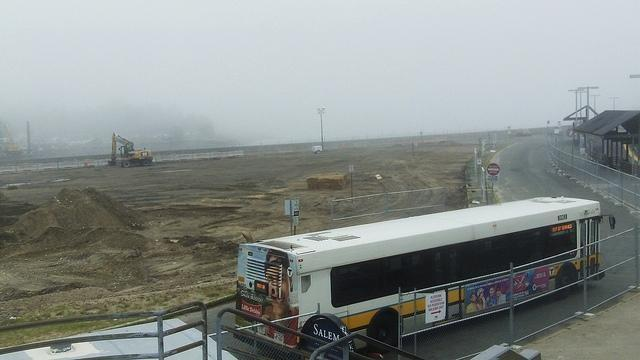bus: (232, 196, 601, 350)
